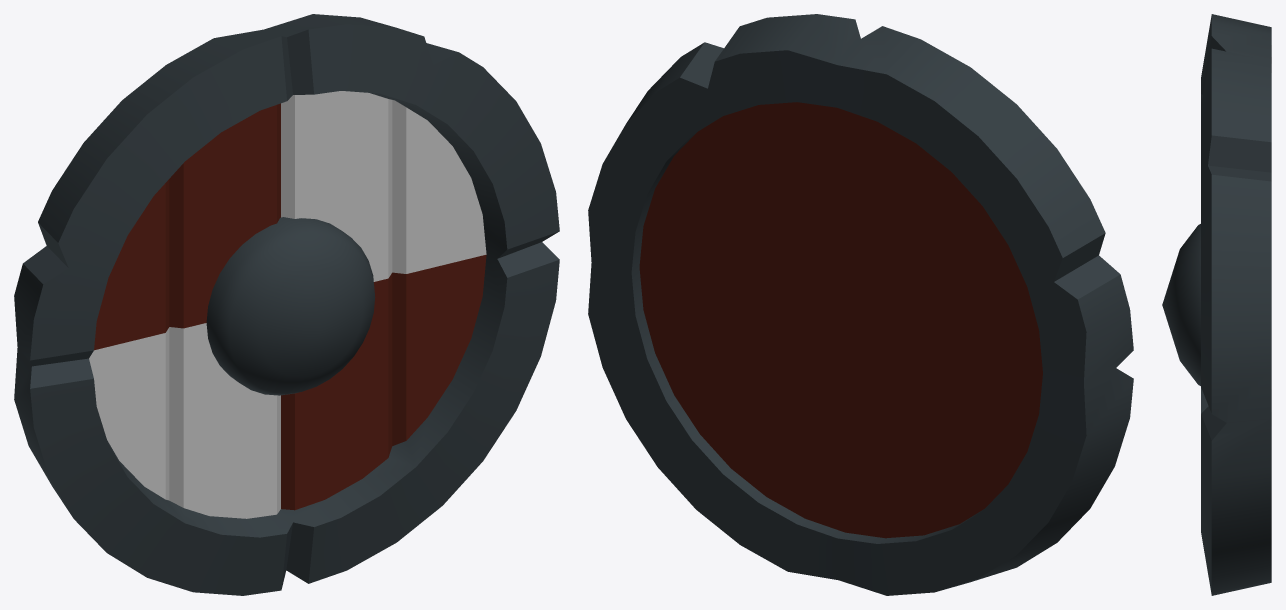
The model's file is shield_common.obj.
The picture shows the model from 3 angles, left to right: view 1: azimuth 30°, elevation 25°; view 2: azimuth 150°, elevation 25°; view 3: azimuth 270°, elevation 25°; orthographic projection. The views are drawn at different scales.
Visible parts, largest first — view 1: shield_common_Cylinder.246; view 2: shield_common_Cylinder.246; view 3: shield_common_Cylinder.246.
Boxes of the visible parts, x1,y1,x2,y2 form: shield_common_Cylinder.246: [14, 14, 559, 595]; shield_common_Cylinder.246: [588, 14, 1133, 595]; shield_common_Cylinder.246: [1162, 14, 1271, 595].
Bounding box in the file's own units: 0.6879 × 0.6879 × 0.13.
